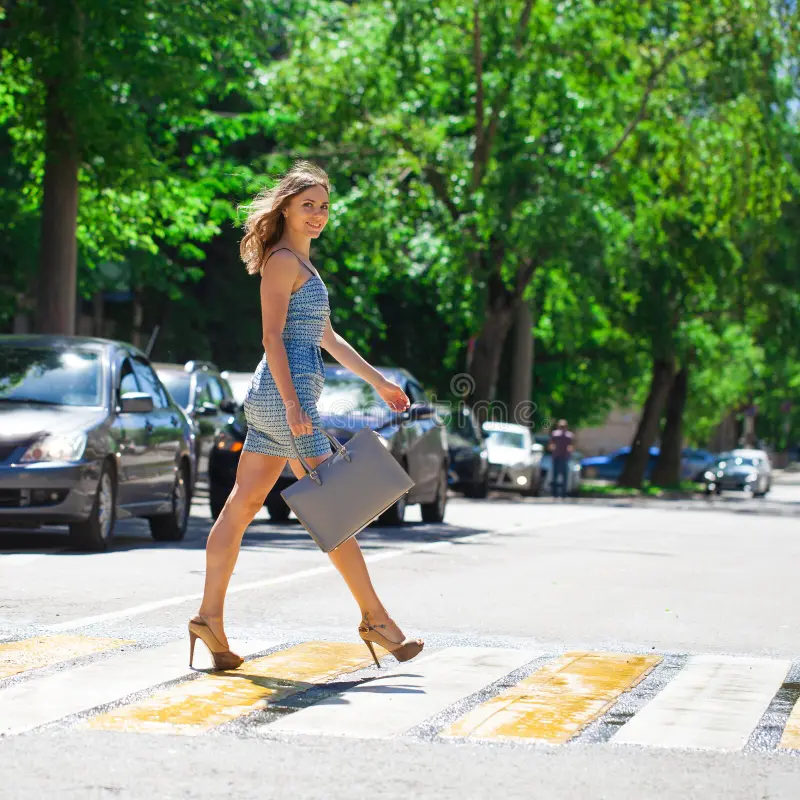car: (1, 298, 198, 558), (698, 429, 787, 504)
person: (167, 153, 429, 693), (544, 416, 585, 500)
